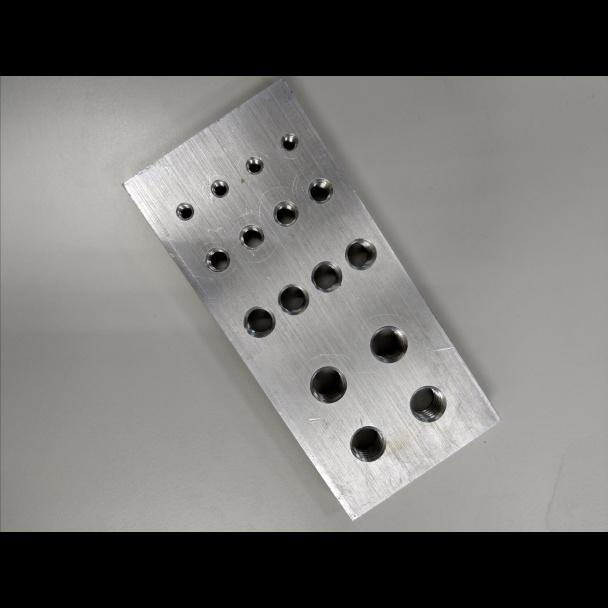hole: (368, 324, 408, 365), (308, 365, 348, 405), (408, 384, 447, 423), (348, 424, 387, 463), (242, 305, 276, 339), (344, 237, 377, 271), (276, 283, 310, 316), (310, 260, 343, 293), (306, 177, 333, 205), (272, 200, 299, 228), (237, 223, 265, 250), (203, 246, 230, 273), (209, 178, 229, 199), (244, 155, 264, 175), (175, 201, 195, 221), (279, 132, 298, 152)
